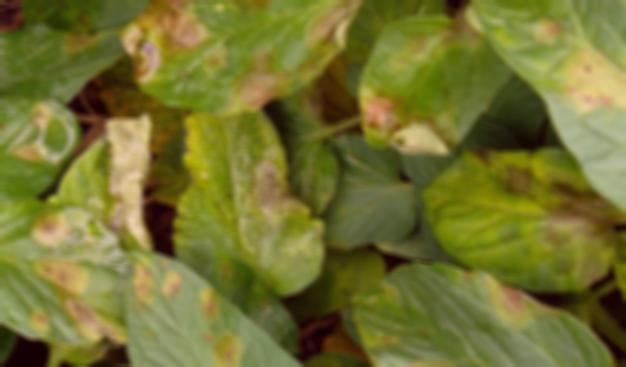Tomato Early blight leaf: (177, 104, 322, 329), (347, 251, 618, 367), (403, 156, 626, 294), (124, 0, 355, 105), (362, 0, 498, 160), (0, 197, 132, 346)
